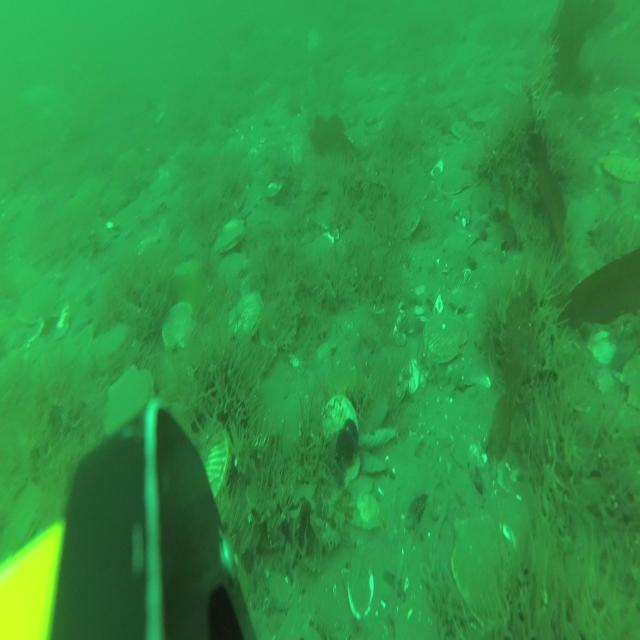scallop: (453, 511, 517, 609), (568, 187, 618, 284), (102, 363, 151, 432), (425, 308, 469, 369), (200, 420, 233, 495), (324, 395, 356, 458), (20, 277, 60, 327), (91, 324, 129, 368), (163, 299, 194, 351), (350, 484, 382, 533), (232, 296, 262, 340), (438, 163, 472, 198), (216, 217, 242, 256), (222, 244, 246, 281)
